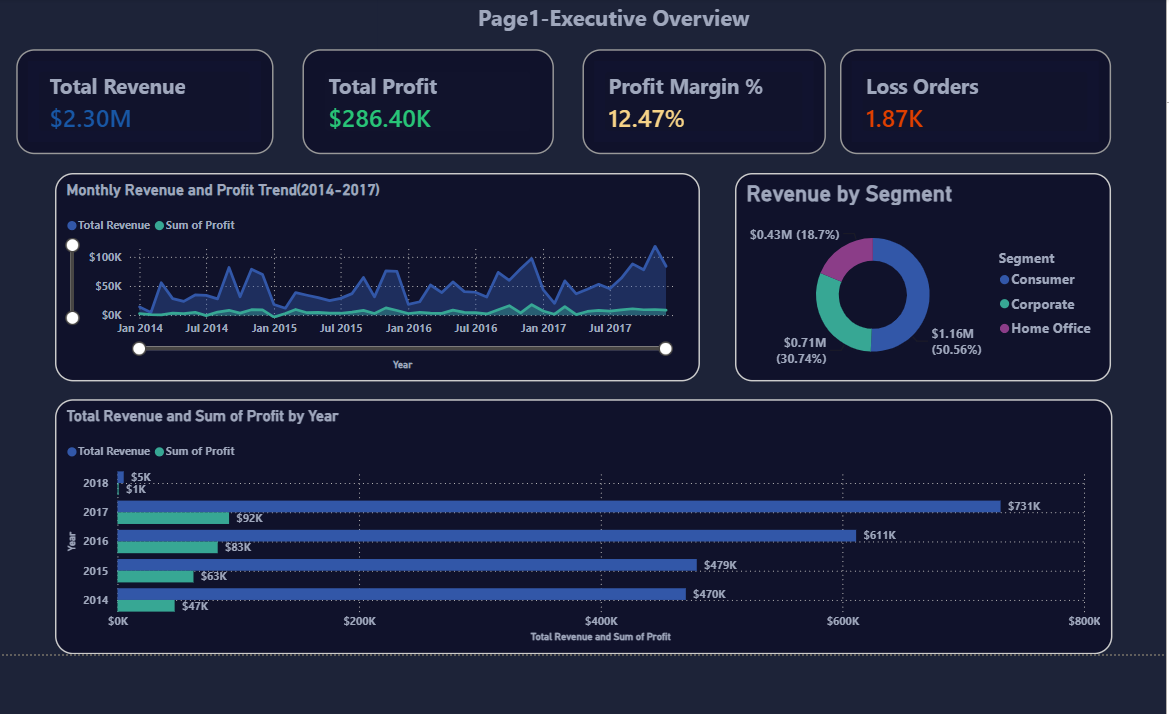

The dashboard page shown, as its layout file describes it:
{"tool":"powerbi","page":{"name":"Executive Overview","canvas":[1280,720],"ordinal":0},"visuals":[{"type":"cardVisual","fields":{"Data":["superstore_enriched.Total Revenue"]},"box":[17.8,56.3,282.7,115.3],"z":0},{"type":"cardVisual","title":"Total Revenue","fields":{"Data":["superstore_enriched.Total Profit"]},"box":[332.1,56.3,275.8,115.3],"z":1000},{"type":"cardVisual","fields":{"Data":["superstore_enriched.Profit Margin %"]},"box":[639.5,56.3,267.6,115.3],"z":2000},{"type":"cardVisual","fields":{"Data":["superstore_enriched.Loss Orders"]},"box":[922.1,56.3,297.8,115.3],"z":3000},{"type":"donutChart","title":"Revenue by Segment","fields":{"Category":["superstore_enriched.Segment"],"Y":["superstore_enriched.Total Revenue"]},"box":[806.9,192.1,413,229.2],"z":4000},{"type":"areaChart","title":"Monthly Revenue and Profit Trend(2014-2017)","fields":{"Category":["superstore_enriched.Order Date.Variation.Date Hierarchy.Year","superstore_enriched.Order Date.Variation.Date Hierarchy.Month"],"Y":["superstore_enriched.Total Revenue","Sum(superstore_enriched.Profit)"]},"box":[60.4,192.1,708.1,229.2],"z":5000},{"type":"clusteredBarChart","fields":{"Y":["superstore_enriched.Total Revenue","Sum(superstore_enriched.Profit)"],"Category":["superstore_enriched.Ship Date.Variation.Date Hierarchy.Year"]},"box":[60.4,440.5,1160.9,279.9],"z":6000},{"type":"textbox","box":[414.4,0,518.7,56.3],"z":7000}]}

Visuals, with their boxes on the page's 1280x720 design canvas (x1, y1, x2, y2). These are canvas units, not pixel positions in the 1169x714 screenshot, which may show the page scaled, cropped or inside an application window:
cardVisual - superstore_enriched.Total Revenue: Rect(18, 56, 300, 172)
"Total Revenue" cardVisual: Rect(332, 56, 608, 172)
cardVisual - superstore_enriched.Profit Margin %: Rect(640, 56, 907, 172)
cardVisual - superstore_enriched.Loss Orders: Rect(922, 56, 1220, 172)
"Revenue by Segment" donutChart: Rect(807, 192, 1220, 421)
"Monthly Revenue and Profit Trend(2014-2017)" areaChart: Rect(60, 192, 768, 421)
clusteredBarChart - superstore_enriched.Total Revenue x Sum(superstore_enriched.Profit): Rect(60, 440, 1221, 720)
textbox: Rect(414, 0, 933, 56)
